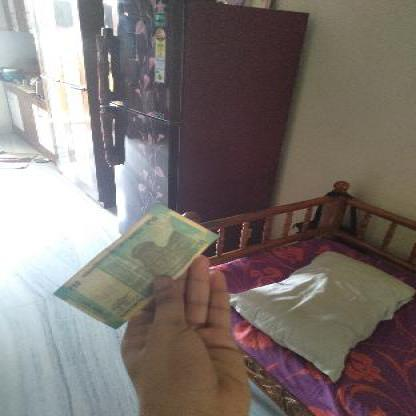New50Back: (47, 204, 206, 328)
